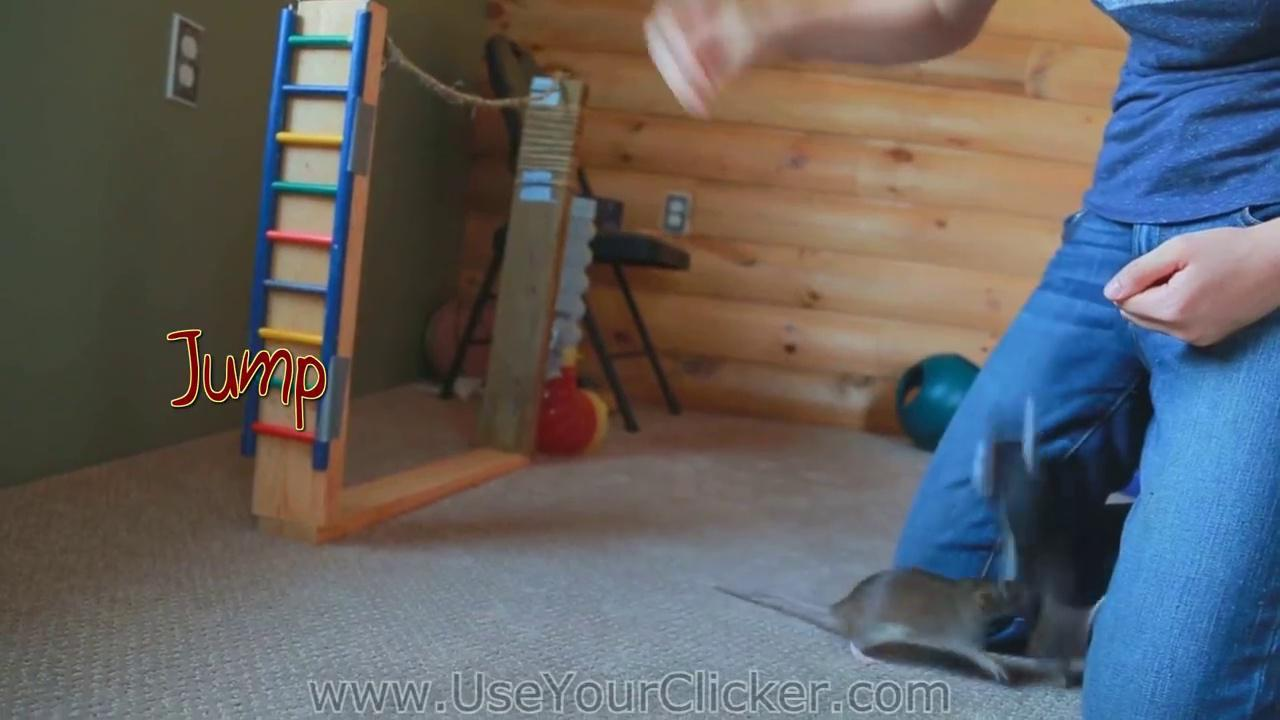mouse: (714, 565, 1028, 680)
